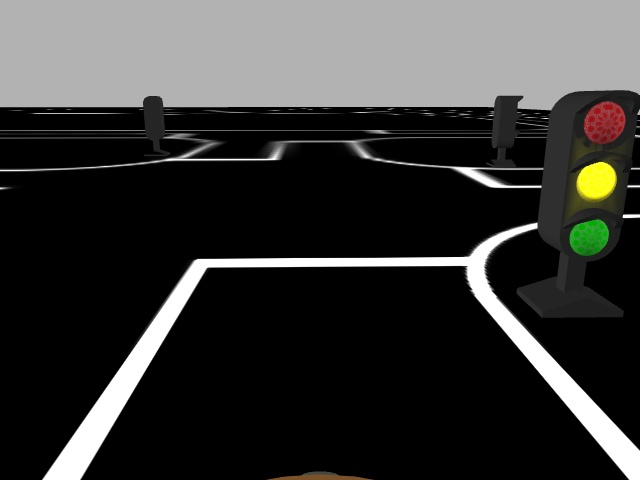yellow_light: (551, 89, 640, 262)
